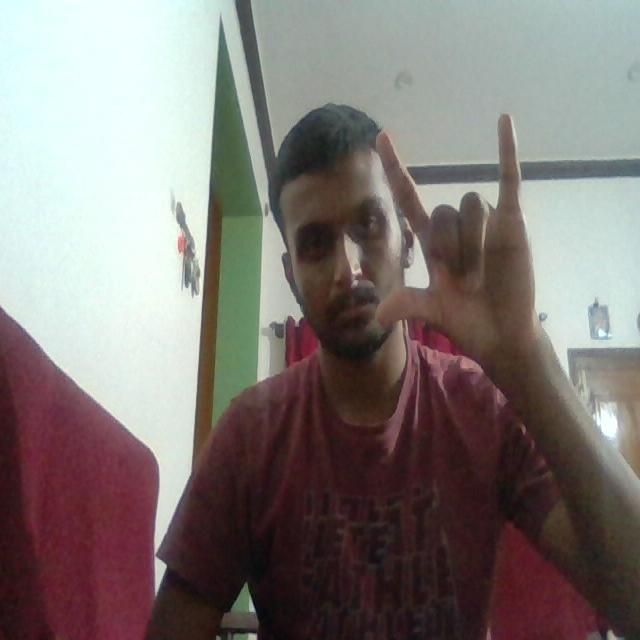iloveyou: (346, 106, 558, 348)
